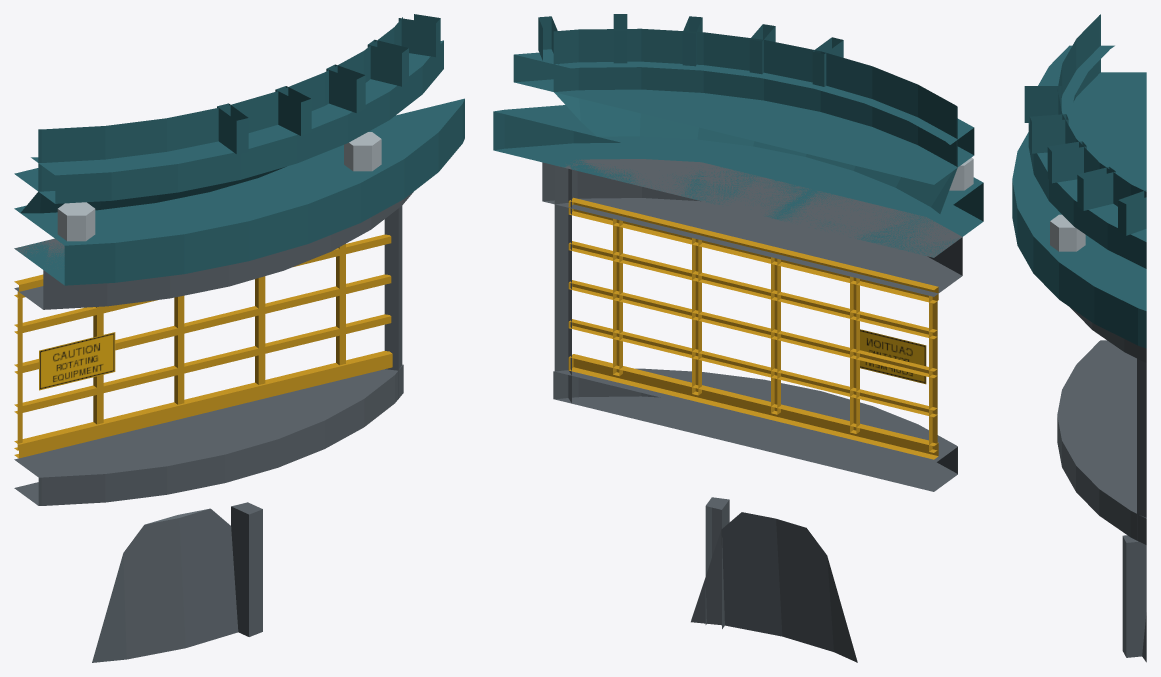
File: cell_39.obj
The picture shows the model from 3 angles, left to right: view 1: azimuth 30°, elevation 25°; view 2: azimuth 150°, elevation 25°; view 3: azimuth 270°, elevation 25°; orthographic projection. The views are drawn at different scales.
Size of the model in its own units: 0.8274 by 1 by 0.228.
